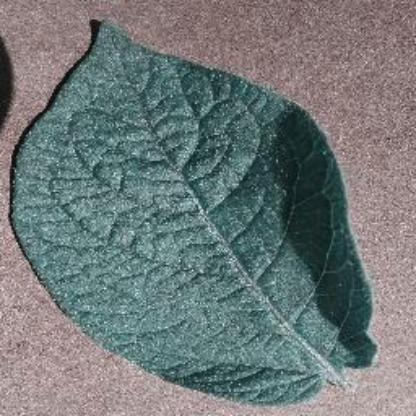Healthy-plant: (28, 15, 390, 406)
